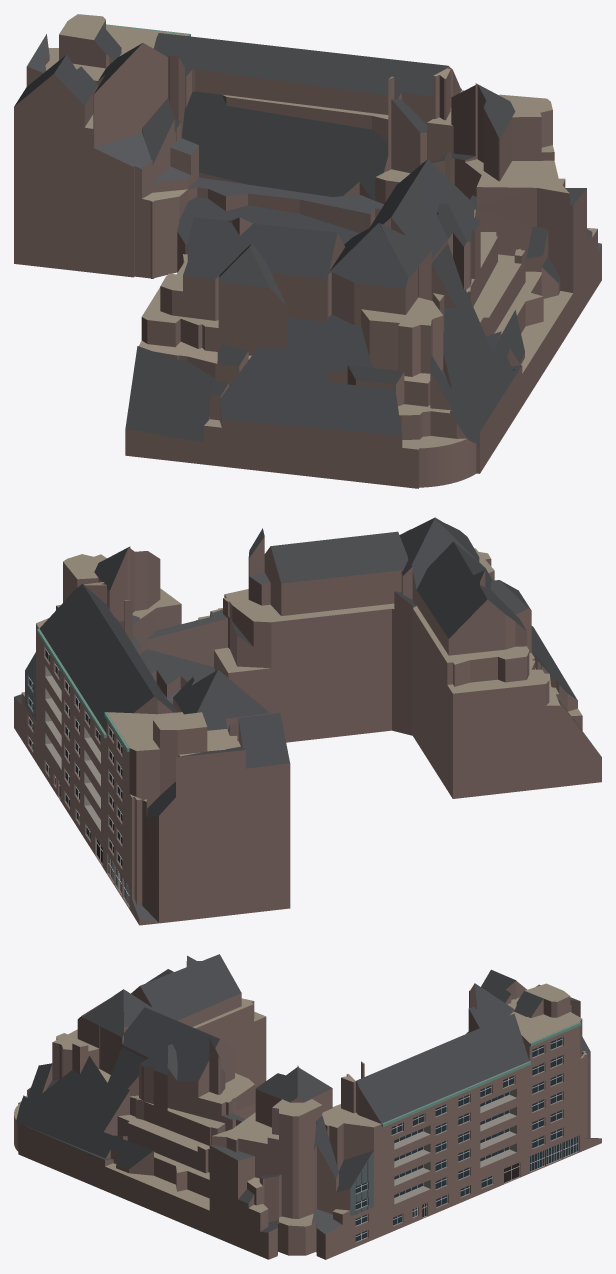
Rendered from recipe-large-windroosplein-2-169221.glb.
3 renders of one model, top to bottom at view 1: azimuth 30°, elevation 25°; view 2: azimuth 150°, elevation 25°; view 3: azimuth 270°, elevation 25°, orthographic. The views are drawn at different scales.
Parts seen in each view (by area): view 1: windroosplein-2-169221; view 2: windroosplein-2-169221; view 3: windroosplein-2-169221.
Boxes of the visible parts, x1,y1,x2,y2 form: windroosplein-2-169221: (14, 14, 601, 488); windroosplein-2-169221: (14, 517, 601, 925); windroosplein-2-169221: (14, 954, 601, 1259).
Size of the model in its own units: 63.49 by 24.23 by 80.66.
